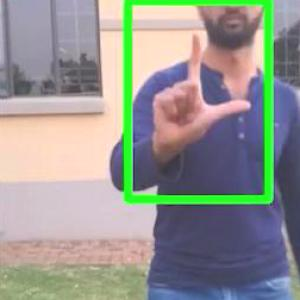land_hand: (141, 21, 257, 166)
